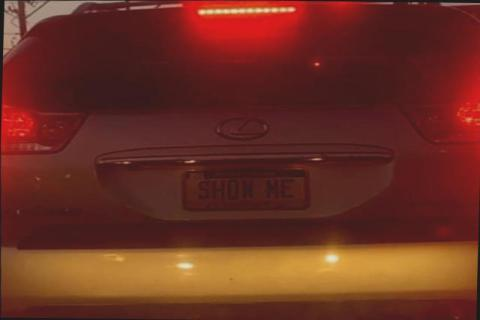LicensePlate: (178, 166, 307, 210)
